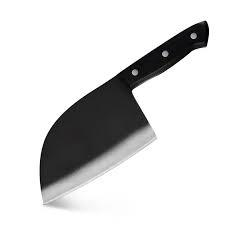Knife: (39, 19, 209, 204)
